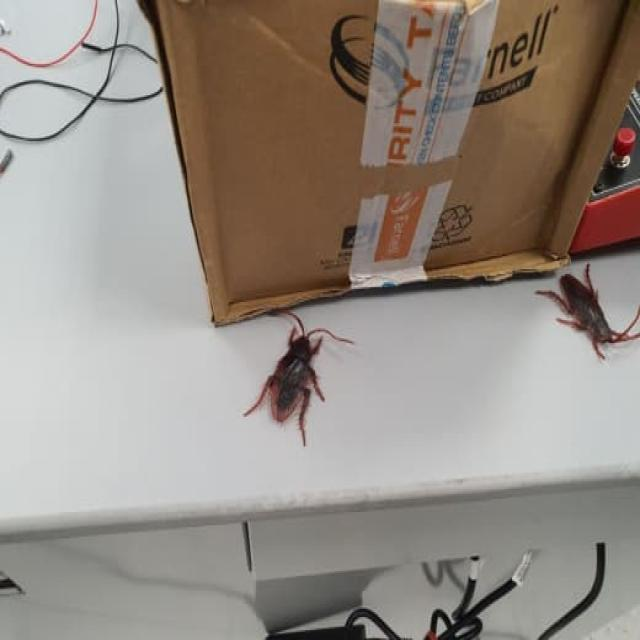Cockroach: (251, 304, 337, 449), (530, 254, 638, 363)
